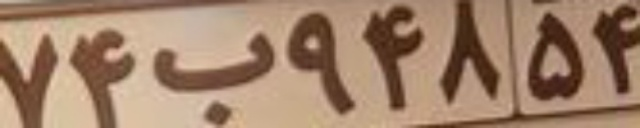4: (68, 27, 139, 127), (359, 3, 424, 110), (591, 4, 639, 94)
5: (519, 11, 584, 99)
7: (0, 31, 62, 127)
8: (441, 0, 503, 103)
9: (284, 12, 353, 113)
be: (146, 29, 278, 125)
